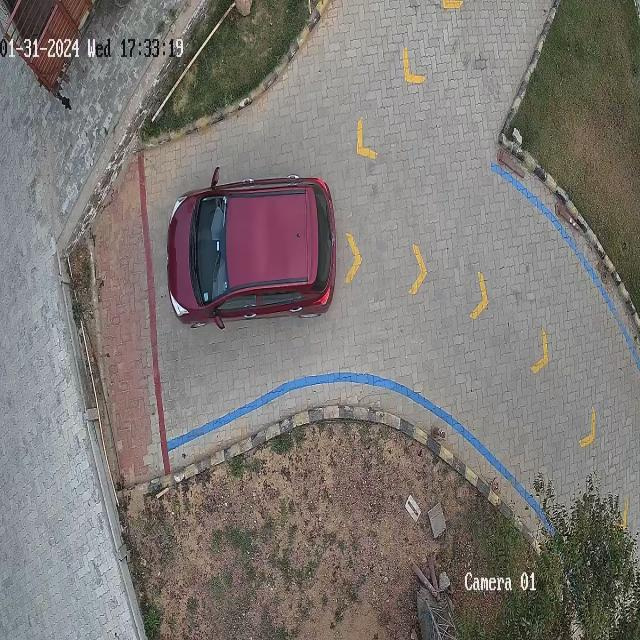car: (166, 169, 336, 329)
